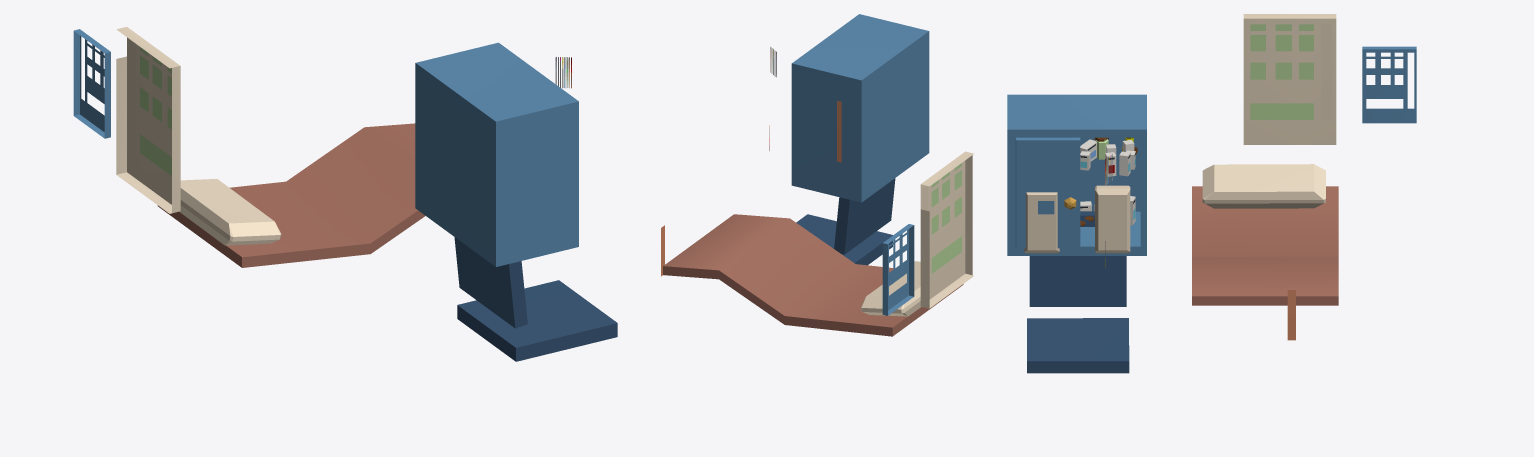
File: g_o_RoomTriageStation.fbx
The picture shows the model from 3 angles, left to right: view 1: azimuth 30°, elevation 25°; view 2: azimuth 150°, elevation 25°; view 3: azimuth 270°, elevation 25°; orthographic projection. The views are drawn at different scales.
Parts seen in each view (by area): view 1: g_o_TriageRoom_Cabinet, g_o_TriageRoom_01, g_o_TriageRoom_Charts, g_o_TriageRoom_Chair; view 2: g_o_TriageRoom_Cabinet, g_o_TriageRoom_01, g_o_TriageRoom_Charts, g_o_TriageRoom_Chair; view 3: g_o_TriageRoom_01, g_o_TriageRoom_Cabinet, g_o_TriageRoom_Charts, g_o_TriageRoom_Chair, g_o_TriageRoom_Nightstand.
Part boxes in pixels (box(x1,y1,x2,y2)): g_o_TriageRoom_Cabinet: box(415, 42, 578, 266); g_o_TriageRoom_01: box(157, 123, 425, 267); g_o_TriageRoom_Charts: box(73, 27, 180, 213); g_o_TriageRoom_Chair: box(454, 237, 617, 361); g_o_TriageRoom_Cabinet: box(769, 14, 929, 202); g_o_TriageRoom_01: box(661, 214, 963, 336); g_o_TriageRoom_Charts: box(882, 151, 973, 315); g_o_TriageRoom_Chair: box(796, 178, 895, 265); g_o_TriageRoom_01: box(1192, 164, 1338, 340); g_o_TriageRoom_Cabinet: box(1007, 94, 1146, 267); g_o_TriageRoom_Charts: box(1243, 14, 1416, 144); g_o_TriageRoom_Chair: box(1027, 211, 1129, 373); g_o_TriageRoom_Nightstand: box(1024, 185, 1130, 253).
Size of the model in its own units: 1.83 by 1.74 by 2.72.
